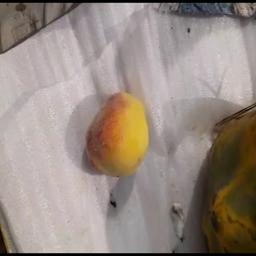Peach Semifresh: (81, 85, 155, 180)
